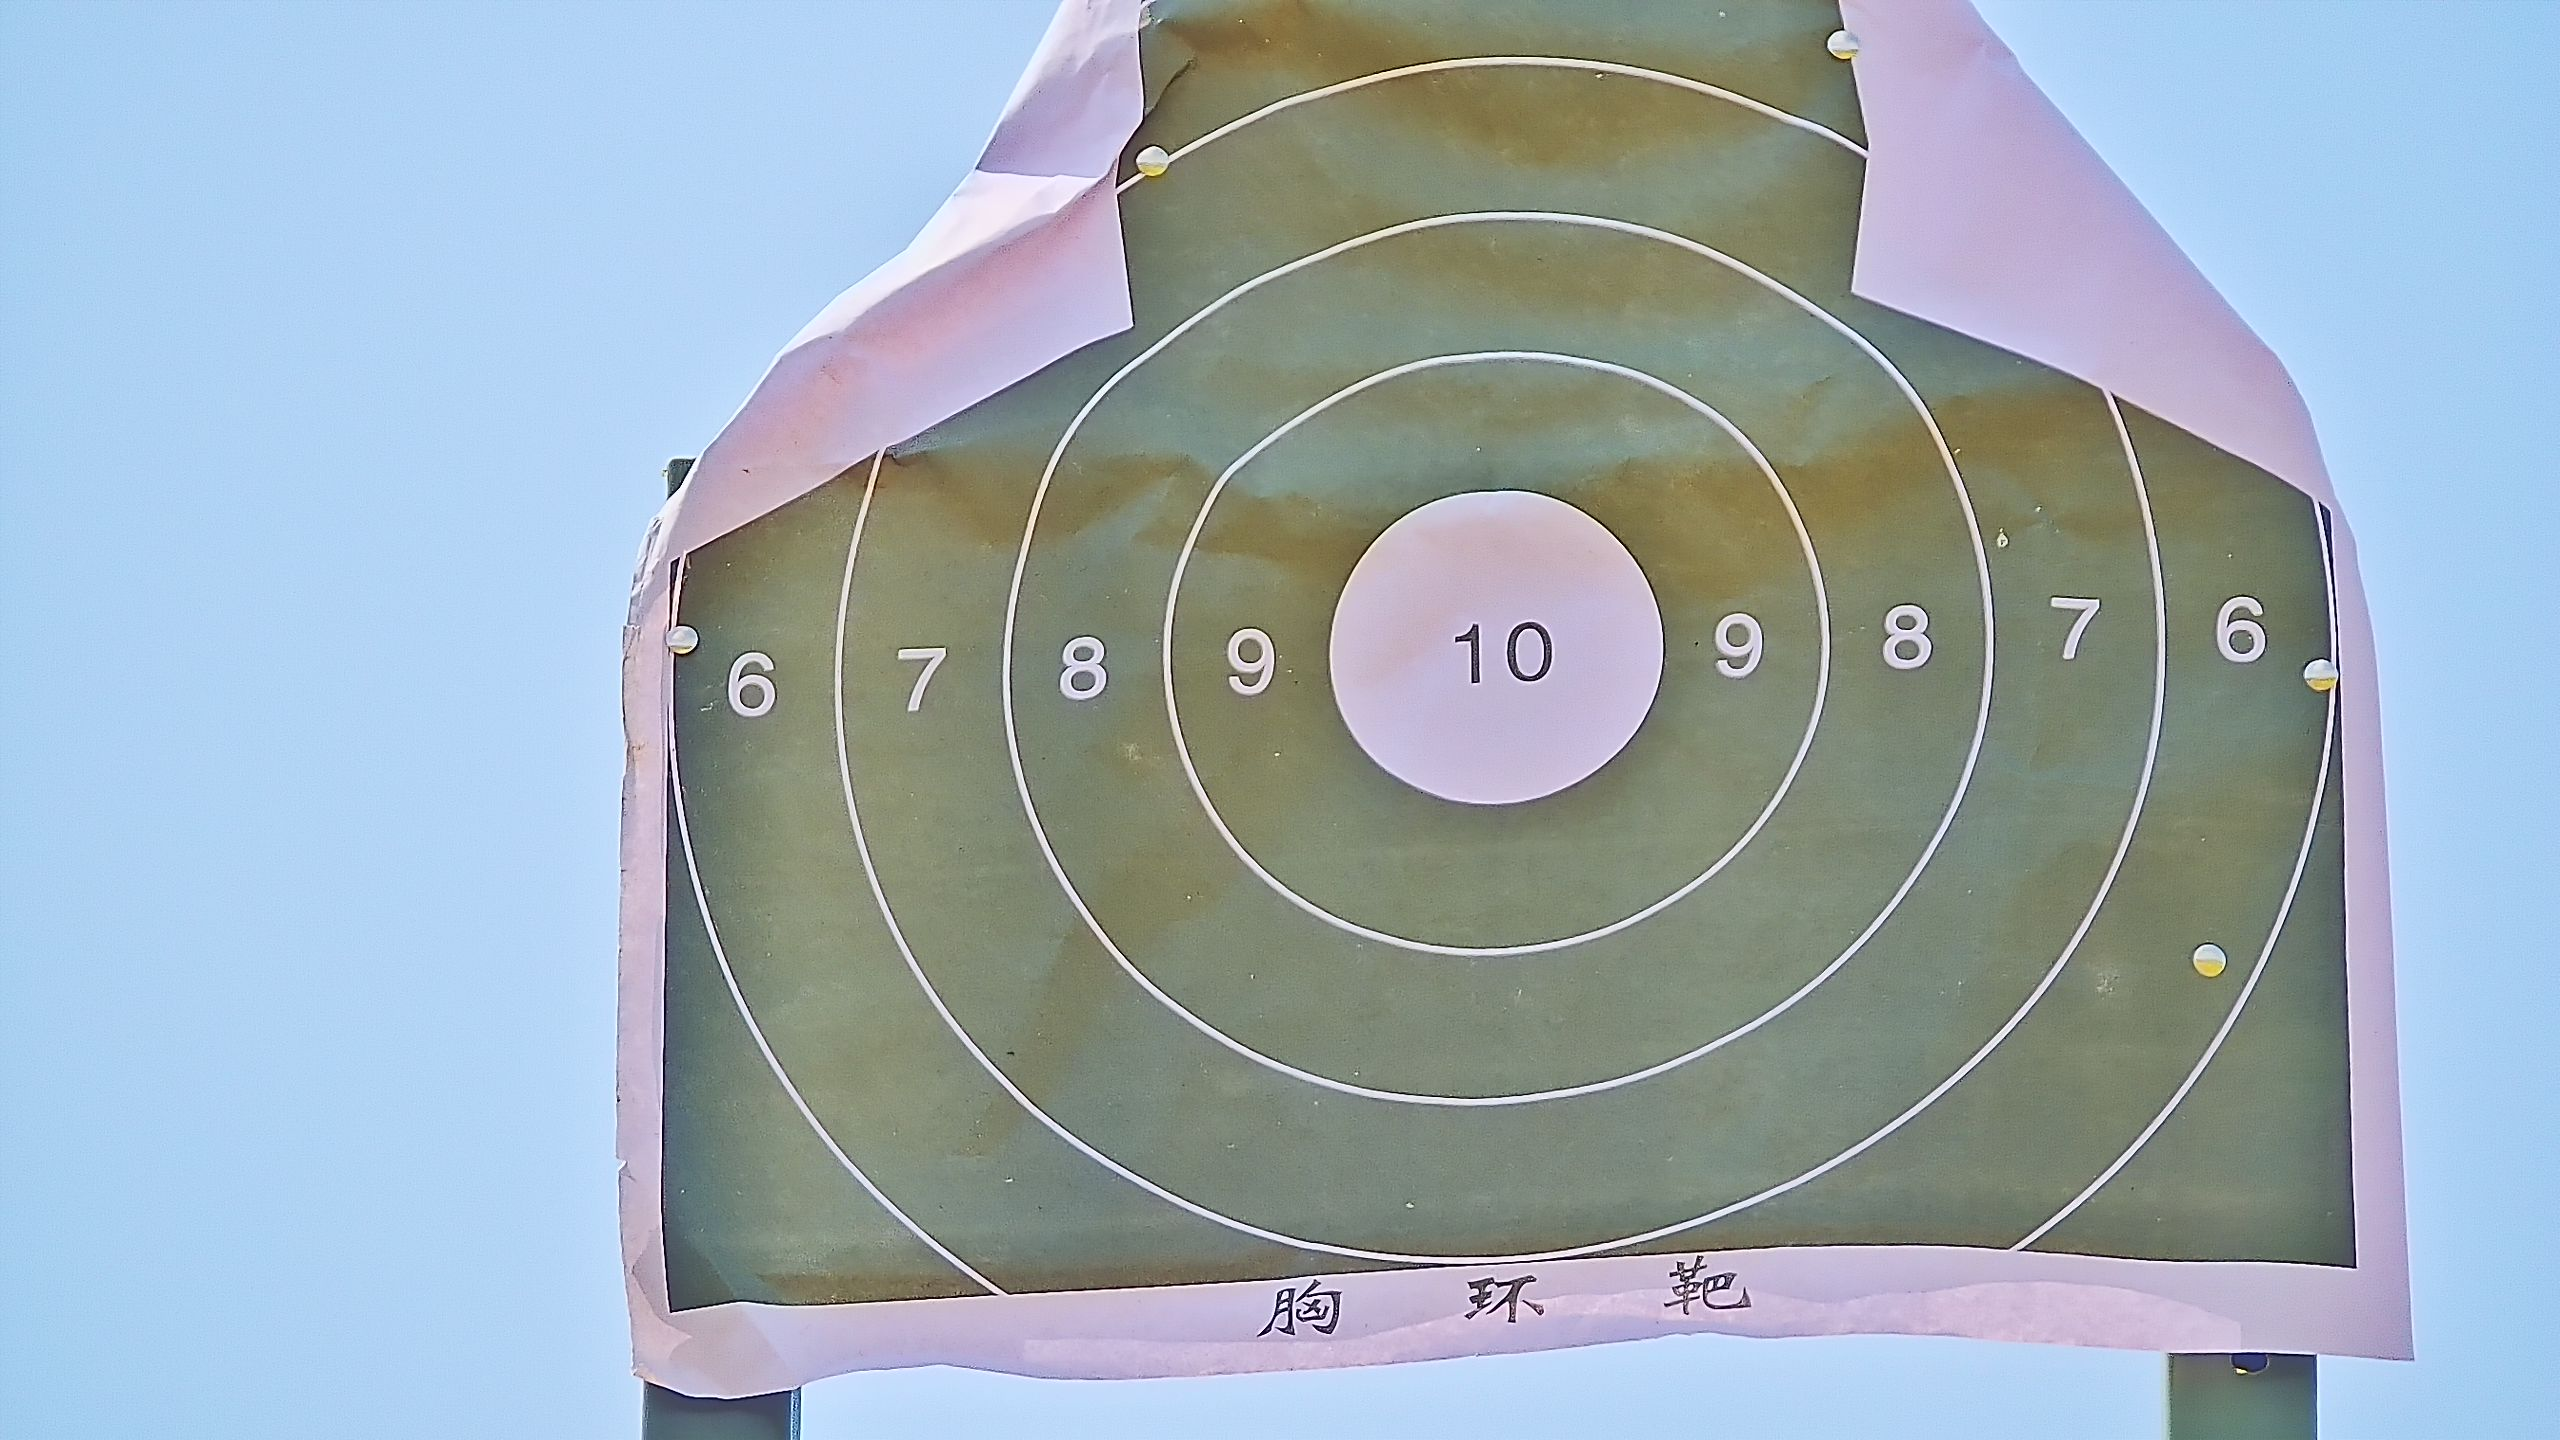kernel: (1493, 645, 1498, 656)
target: (668, 2, 2361, 1305)
ten: (1326, 489, 1667, 811)
